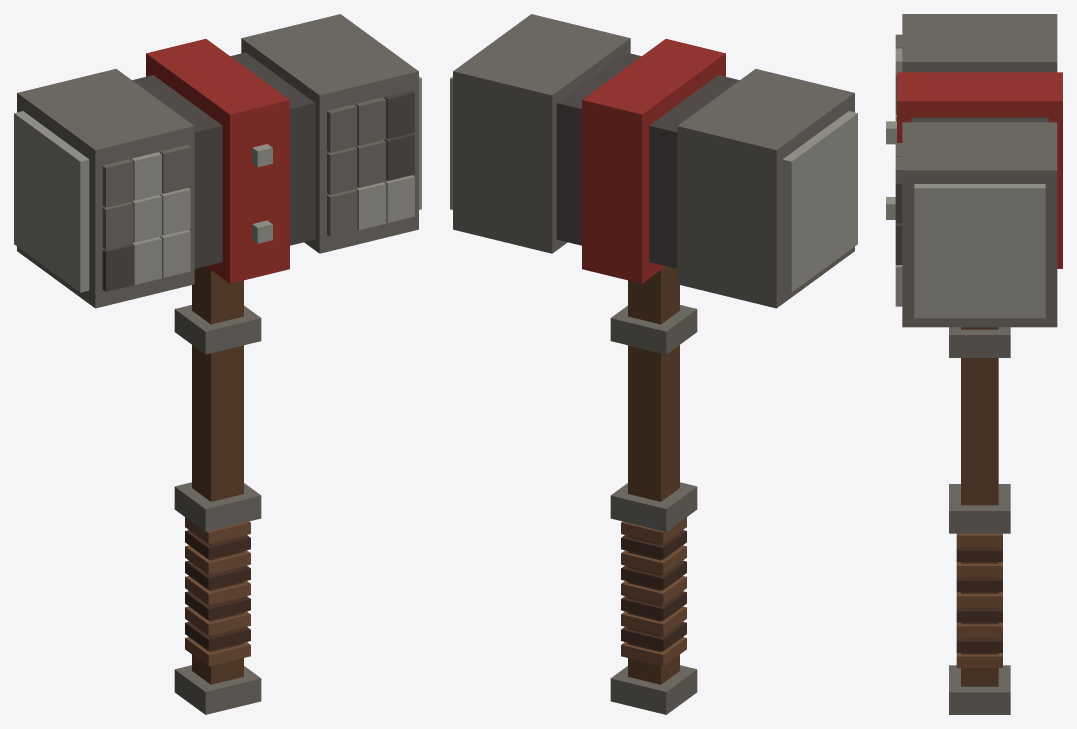
The model's file is Warhammer.glb.
The picture shows the model from 3 angles, left to right: view 1: azimuth 30°, elevation 25°; view 2: azimuth 150°, elevation 25°; view 3: azimuth 270°, elevation 25°; orthographic projection.
Visible parts, largest first — view 1: Warhammer_Mesh; view 2: Warhammer_Mesh; view 3: Warhammer_Mesh.
Boxes of the visible parts, bbox=[...] form: Warhammer_Mesh: bbox=[14, 14, 421, 714]; Warhammer_Mesh: bbox=[450, 14, 857, 714]; Warhammer_Mesh: bbox=[886, 14, 1062, 714].
Size of the model in its own units: 0.655 by 1.14 by 0.296.
Materials: 1 (1 with a texture image).
